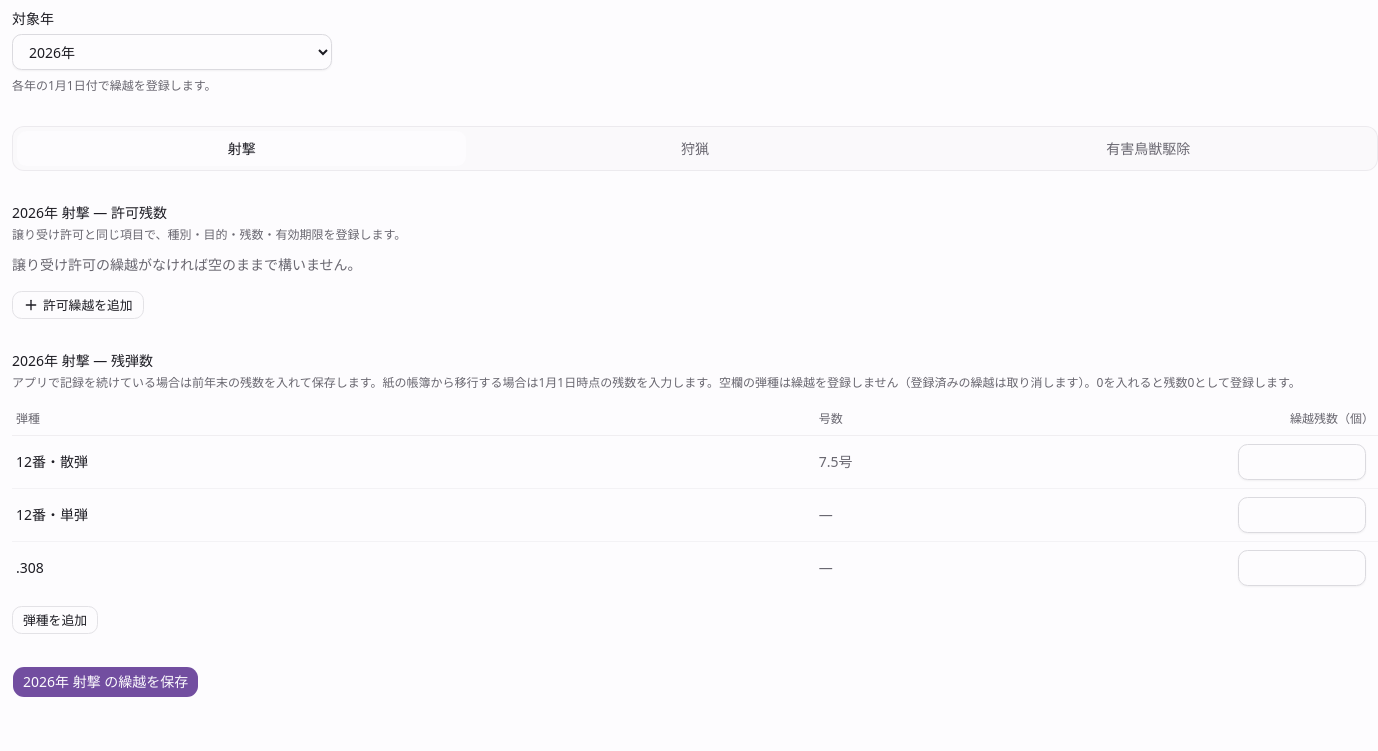
Test case: OpeningBalanceForm › 前年末の記録がない用途には前年末の残数を入れるボタンを出さない
Expected: the button "前年末の残数を入れる" is not shown
Expected: the text "前年末の帳簿残数" is not shown
Step 1. Click the button with aria-label "狩猟用" → (695, 149), box x1=470 y1=131 x2=920 y2=166
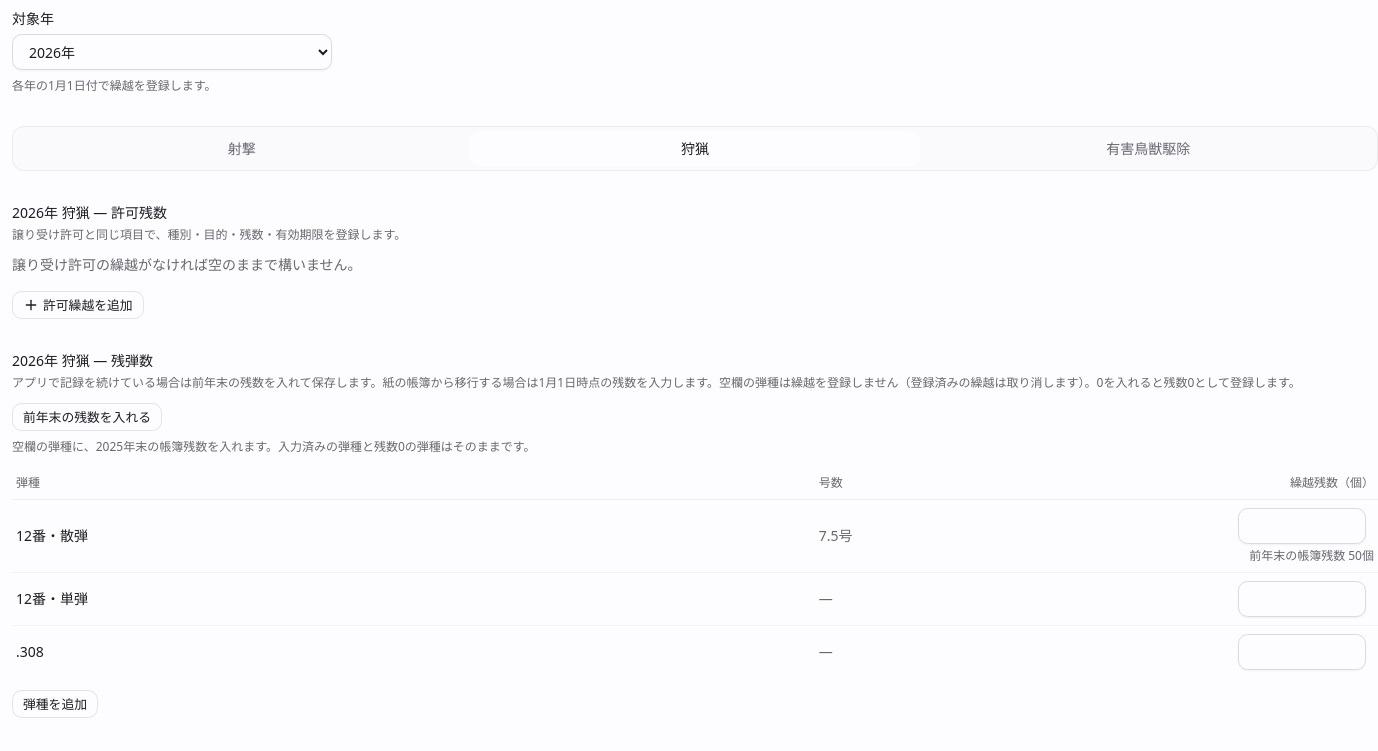
Expected: the button "前年末の残数を入れる" is enabled, x1=12 y1=403 x2=162 y2=431
